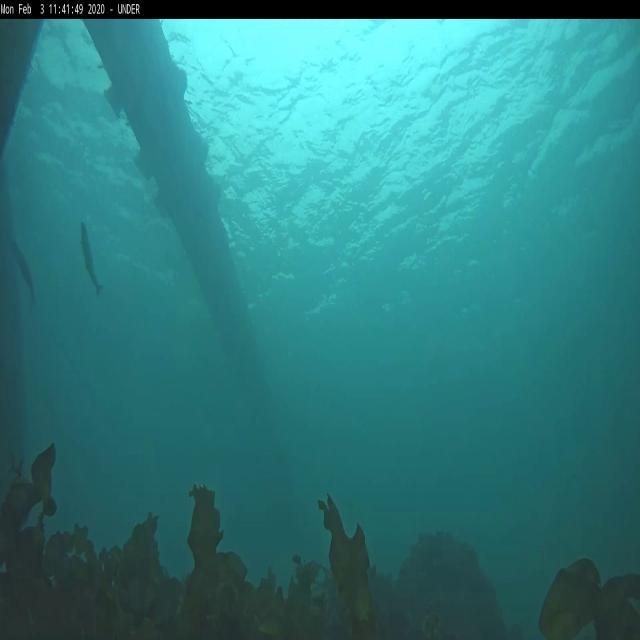fish: (78, 221, 104, 299), (11, 236, 38, 304)
